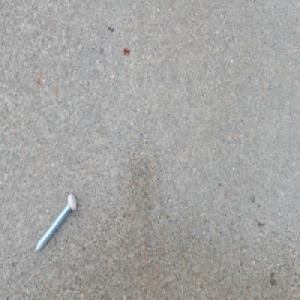Nail: (33, 192, 76, 254)
